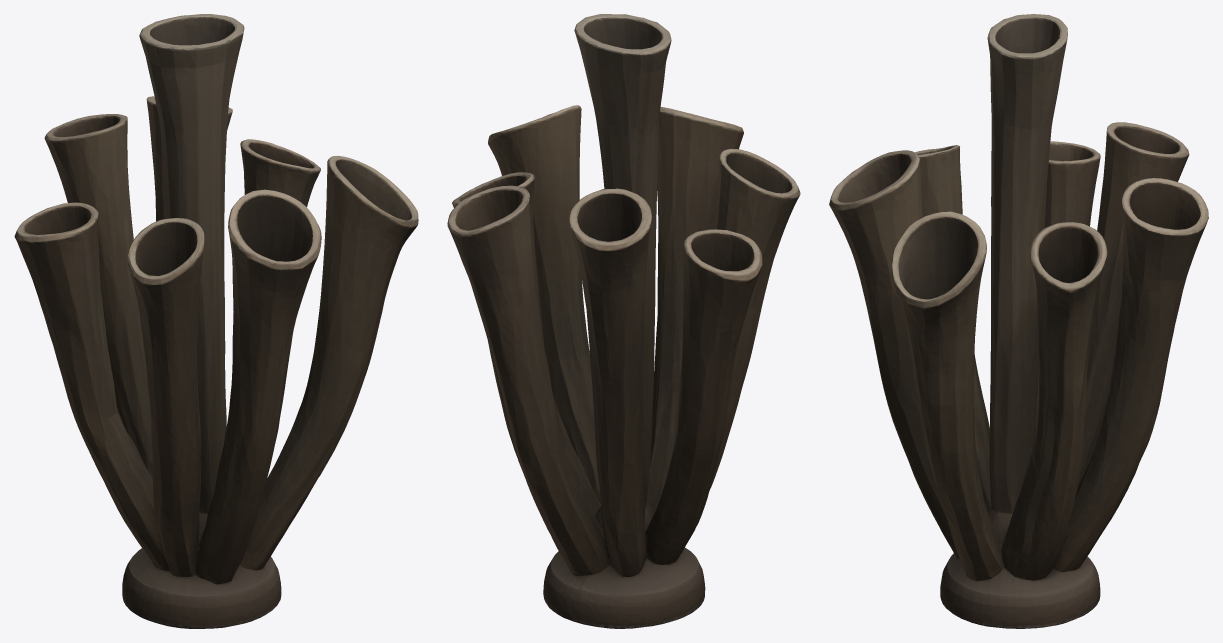
3 renders of one model, left to right at view 1: azimuth 30°, elevation 25°; view 2: azimuth 150°, elevation 25°; view 3: azimuth 270°, elevation 25°, orthographic.
Visible parts, largest first — view 1: world; view 2: world; view 3: world.
Part boxes in pixels (left/top/right/bottom): world: left=14, top=14, right=418, bottom=628; world: left=447, top=14, right=800, bottom=628; world: left=829, top=14, right=1208, bottom=628.
Bounding box in the file's own units: 0.0488 × 0.08 × 0.0492.
1 material, 1 textured.
